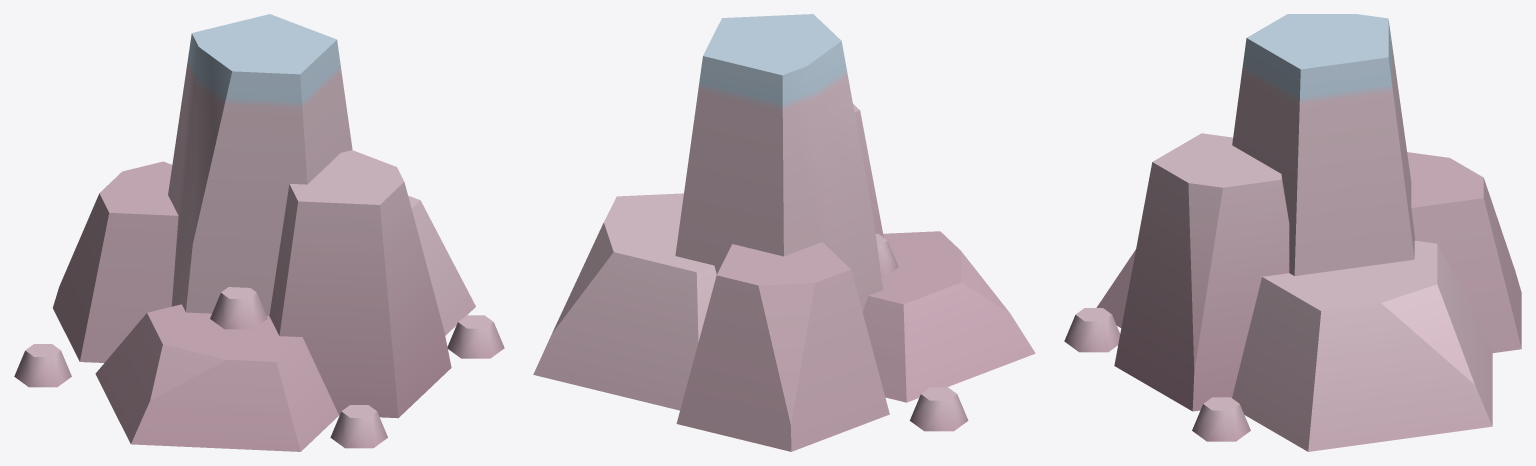
File: rock_large.obj
3 views of the same model, side by side, from view 1: azimuth 30°, elevation 25°; view 2: azimuth 150°, elevation 25°; view 3: azimuth 270°, elevation 25° (orthographic). The views are drawn at different scales.
Visible parts, largest first — view 1: rock-large; view 2: rock-large; view 3: rock-large.
Part boxes in pixels (bbox=[...]): rock-large: bbox=[14, 14, 504, 451]; rock-large: bbox=[533, 14, 1035, 451]; rock-large: bbox=[1064, 14, 1521, 451].
Bounding box in the file's own units: 11.81 × 8.22 × 10.95.
Materials: 1 (1 with a texture image).
